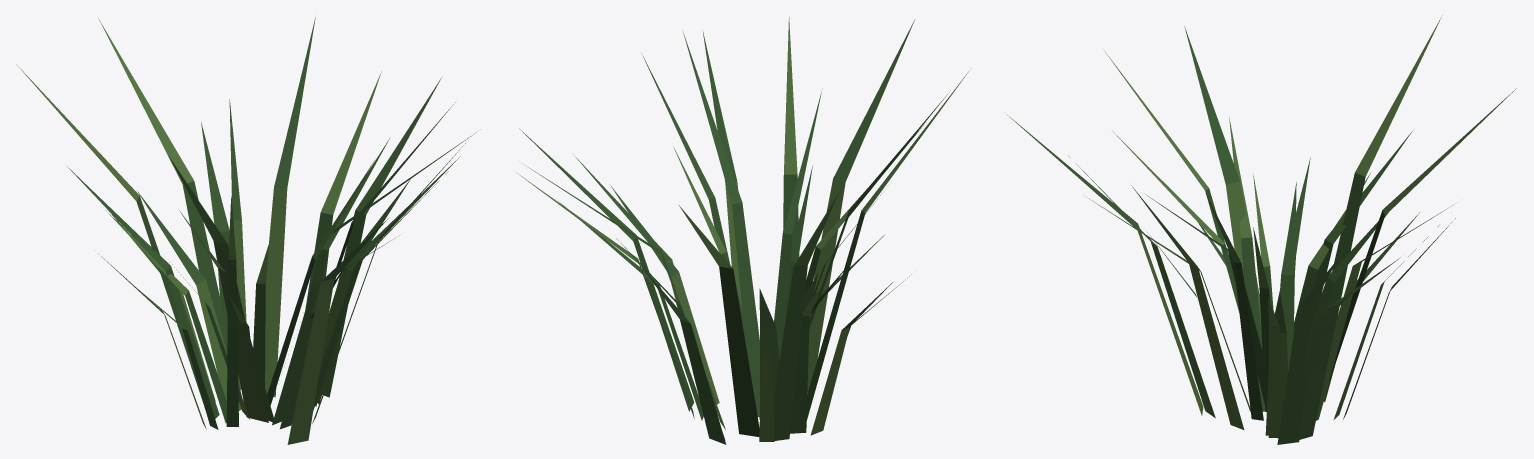
File: detail_meadow_grass.glb
The picture shows the model from 3 angles, left to right: view 1: azimuth 30°, elevation 25°; view 2: azimuth 150°, elevation 25°; view 3: azimuth 270°, elevation 25°; orthographic projection. The views are drawn at different scales.
Visible parts, largest first — view 1: MeadowGrass; view 2: MeadowGrass; view 3: MeadowGrass.
Part boxes in pixels (left/top/right/bottom): MeadowGrass: left=16, top=17, right=476, bottom=444; MeadowGrass: left=516, top=16, right=969, bottom=444; MeadowGrass: left=1004, top=15, right=1516, bottom=444.
Bounding box in the file's own units: 1.07 × 0.8954 × 1.31.
